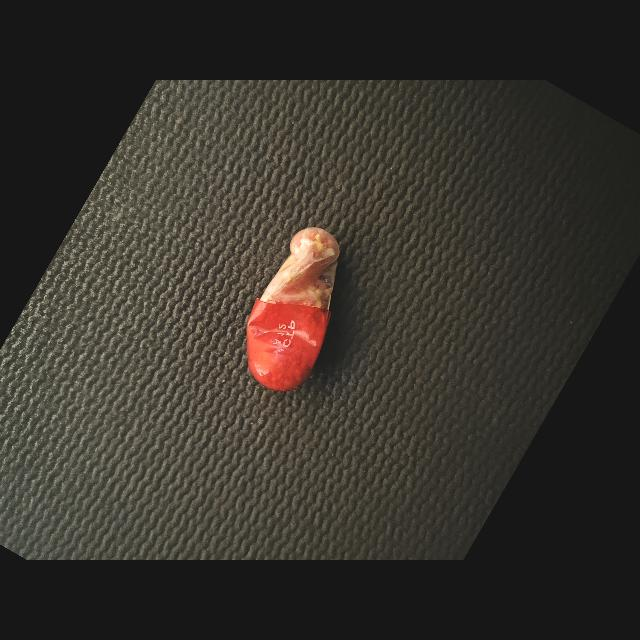Defective Capsule: (247, 227, 339, 391)
